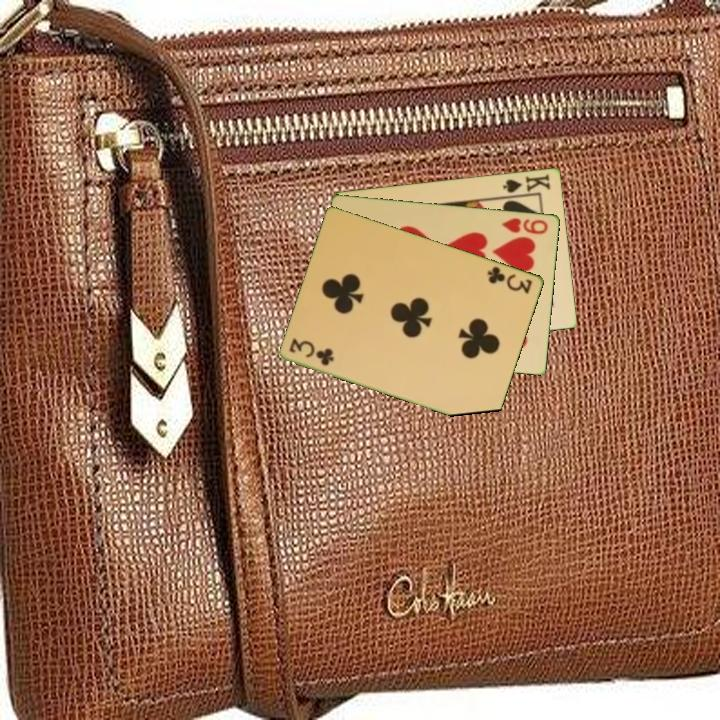3c: (484, 262, 536, 296), (286, 335, 337, 368)
9h: (498, 214, 551, 237)
Ks: (499, 170, 554, 199)
